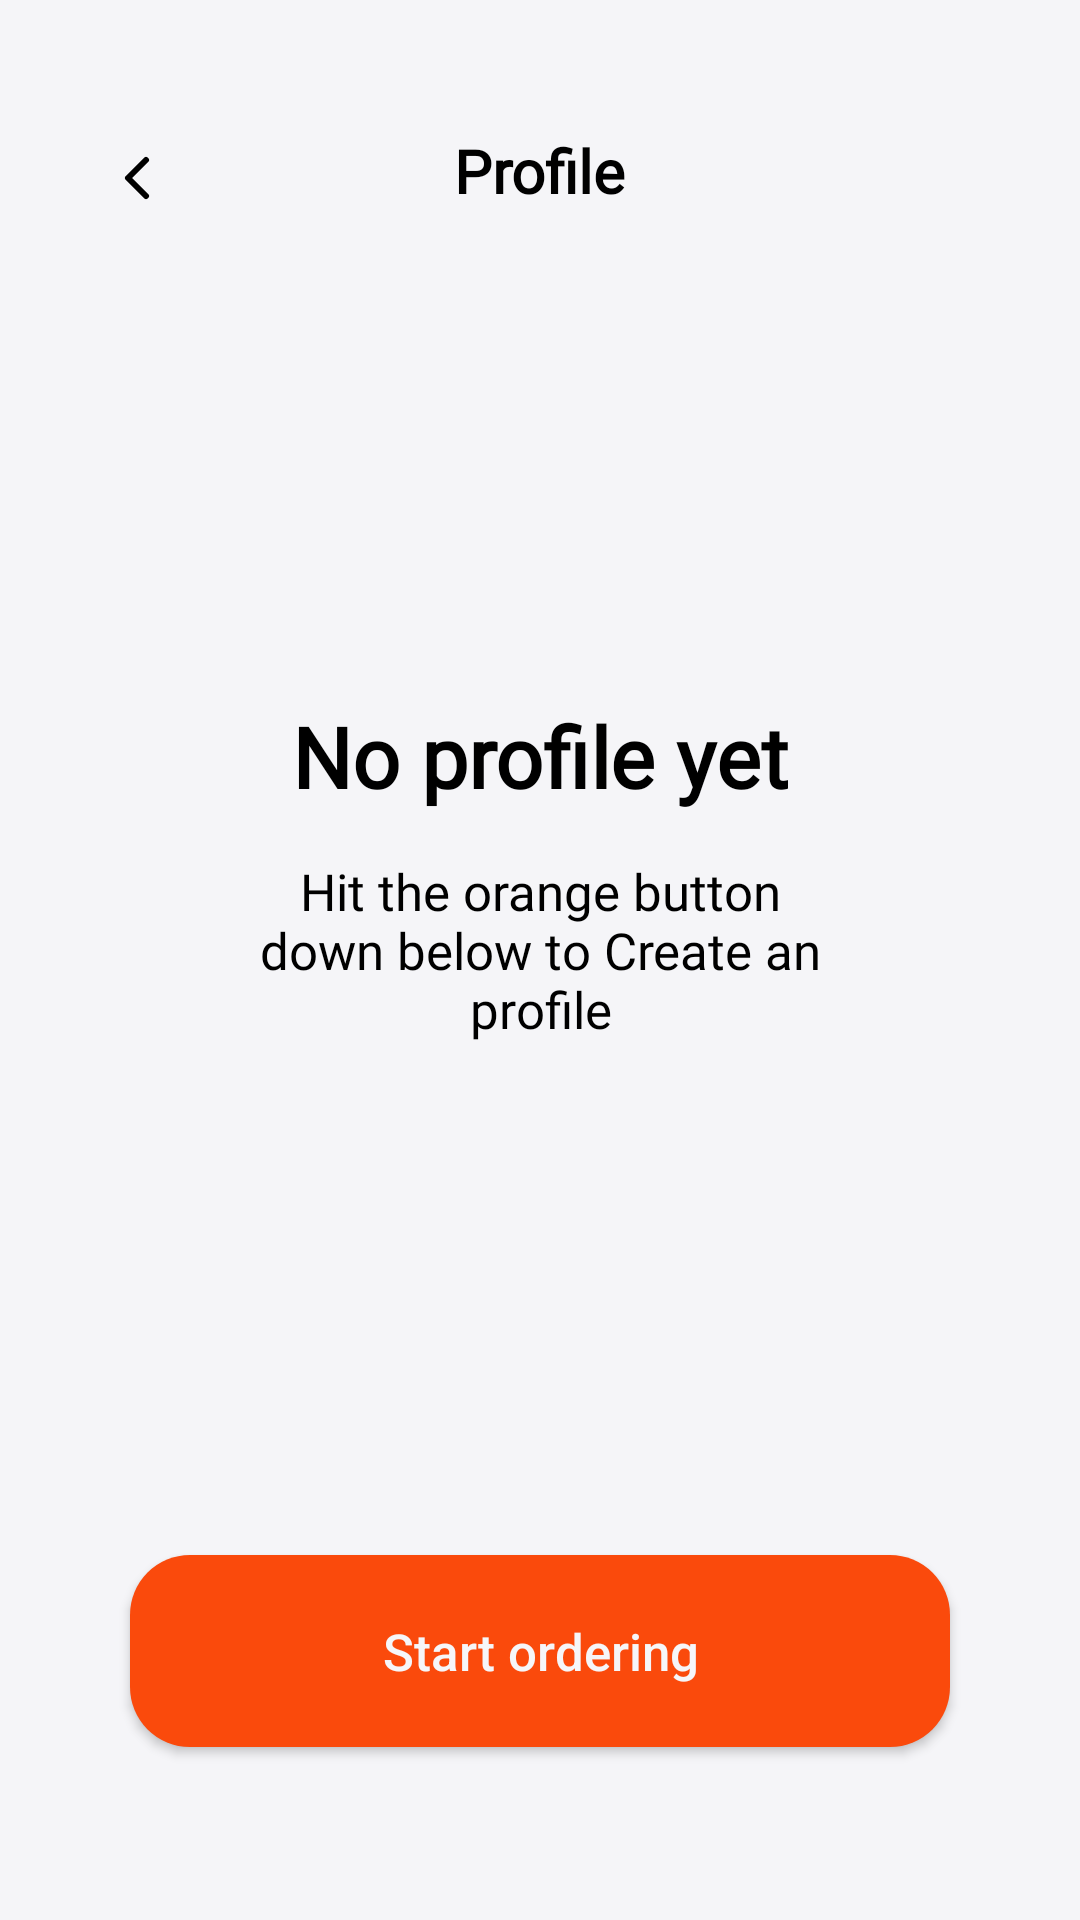

Where icons sit on this 1080x1920 app screen, as BBox(x1, y1, x2, y2):
chevron left: BBox(125, 157, 149, 199)
